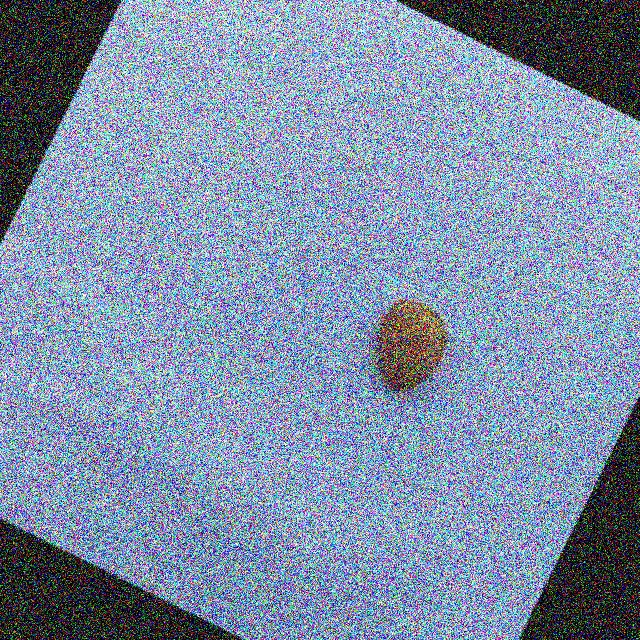grade2: (350, 286, 464, 407)
